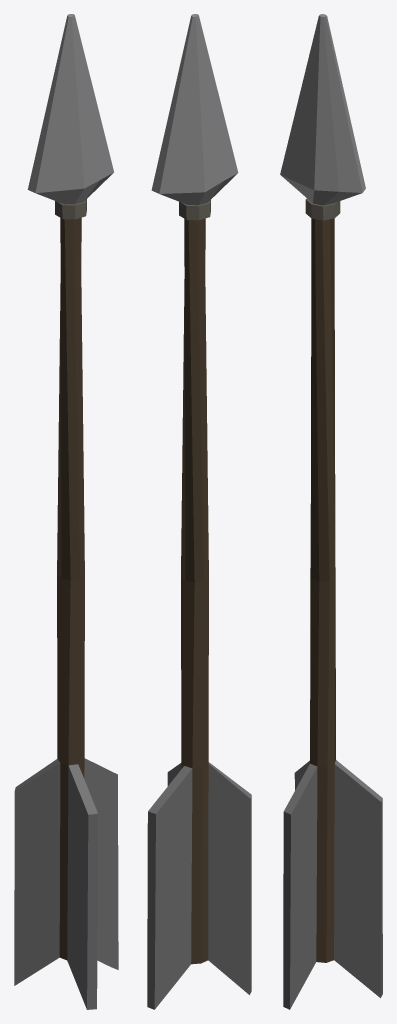
The model's file is arrow.glb.
3 renders of one model, left to right at view 1: azimuth 30°, elevation 25°; view 2: azimuth 210°, elevation 25°; view 3: azimuth 330°, elevation 25°, orthographic.
Parts seen in each view (by area): view 1: arrow; view 2: arrow; view 3: arrow.
Part boxes in pixels (left/top/right/bottom): arrow: left=14, top=14, right=118, bottom=1009; arrow: left=147, top=14, right=251, bottom=1009; arrow: left=280, top=14, right=382, bottom=1009.
Size of the model in its own units: 0.0947 by 0.9268 by 0.0831.
